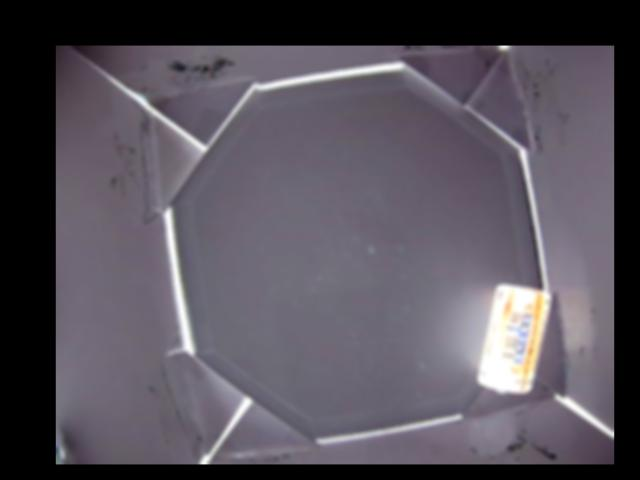Battery: (478, 284, 553, 391)
